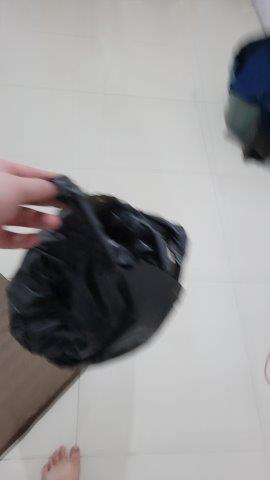plastik: (8, 175, 190, 365)
